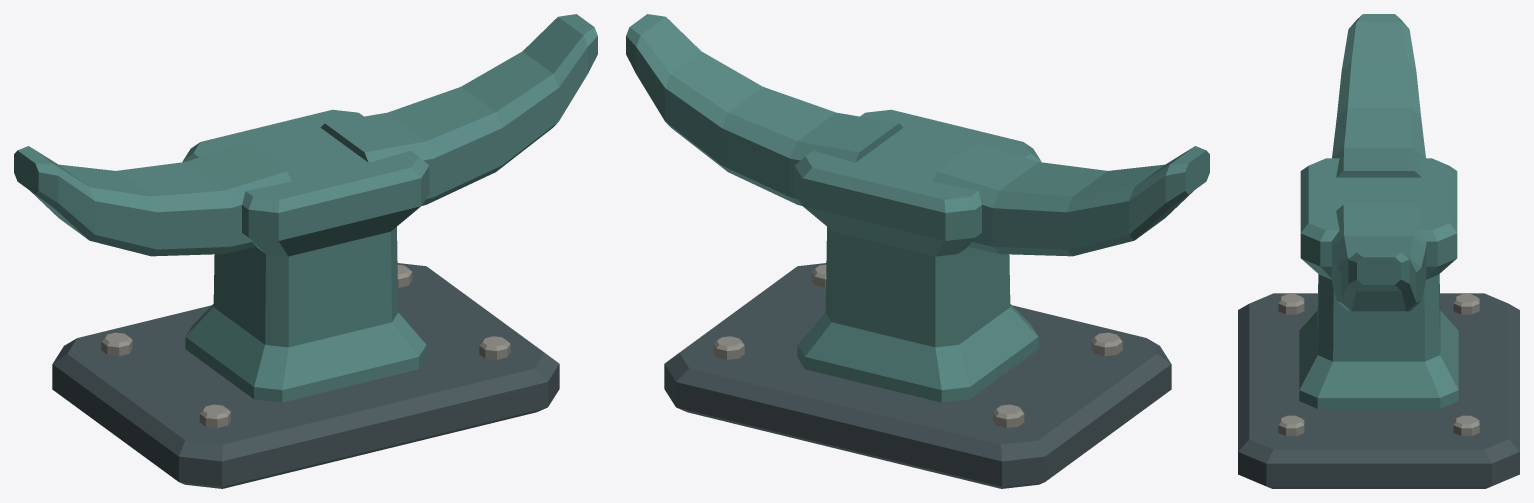
3 renders of one model, left to right at view 1: azimuth 30°, elevation 25°; view 2: azimuth 150°, elevation 25°; view 3: azimuth 270°, elevation 25°, orthographic. The views are drawn at different scales.
Parts seen in each view (by area): view 1: Base_FlatChamferedFoot, Post_FlaredShoulder, Horn_RightUpturned, Horn_LeftUpturned, Fastener_FrontRight, Fastener_FrontLeft, Fastener_BackLeft; view 2: Base_FlatChamferedFoot, Post_FlaredShoulder, Horn_RightUpturned, Horn_LeftUpturned, Fastener_BackRight, Fastener_BackLeft, Fastener_FrontLeft; view 3: Base_FlatChamferedFoot, Post_FlaredShoulder, Horn_LeftUpturned, Horn_RightUpturned, Fastener_BackLeft, Fastener_BackRight, Fastener_FrontLeft, Fastener_FrontRight.
Part boxes in pixels (x1=…): Base_FlatChamferedFoot: x1=52, y1=263, x2=559, y2=488; Post_FlaredShoulder: x1=182, y1=109, x2=429, y2=402; Horn_RightUpturned: x1=320, y1=14, x2=597, y2=205; Horn_LeftUpturned: x1=14, y1=142, x2=290, y2=256; Fastener_FrontRight: x1=479, y1=336, x2=510, y2=359; Fastener_FrontLeft: x1=199, y1=404, x2=230, y2=427; Fastener_BackLeft: x1=101, y1=332, x2=132, y2=355; Base_FlatChamferedFoot: x1=664, y1=263, x2=1171, y2=488; Post_FlaredShoulder: x1=794, y1=109, x2=1041, y2=402; Horn_RightUpturned: x1=626, y1=14, x2=903, y2=205; Horn_LeftUpturned: x1=933, y1=142, x2=1209, y2=256; Fastener_BackRight: x1=713, y1=336, x2=744, y2=359; Fastener_BackLeft: x1=993, y1=404, x2=1024, y2=427; Fastener_FrontLeft: x1=1091, y1=332, x2=1122, y2=355; Base_FlatChamferedFoot: x1=1238, y1=293, x2=1519, y2=488; Post_FlaredShoulder: x1=1299, y1=158, x2=1458, y2=408; Horn_LeftUpturned: x1=1332, y1=14, x2=1425, y2=177; Horn_RightUpturned: x1=1331, y1=204, x2=1426, y2=311; Fastener_BackLeft: x1=1453, y1=294, x2=1479, y2=314; Fastener_BackRight: x1=1453, y1=415, x2=1479, y2=435; Fastener_FrontLeft: x1=1278, y1=294, x2=1304, y2=314; Fastener_FrontRight: x1=1278, y1=415, x2=1304, y2=435.
Size of the model in its own units: 0.94 by 0.495 by 0.46.
